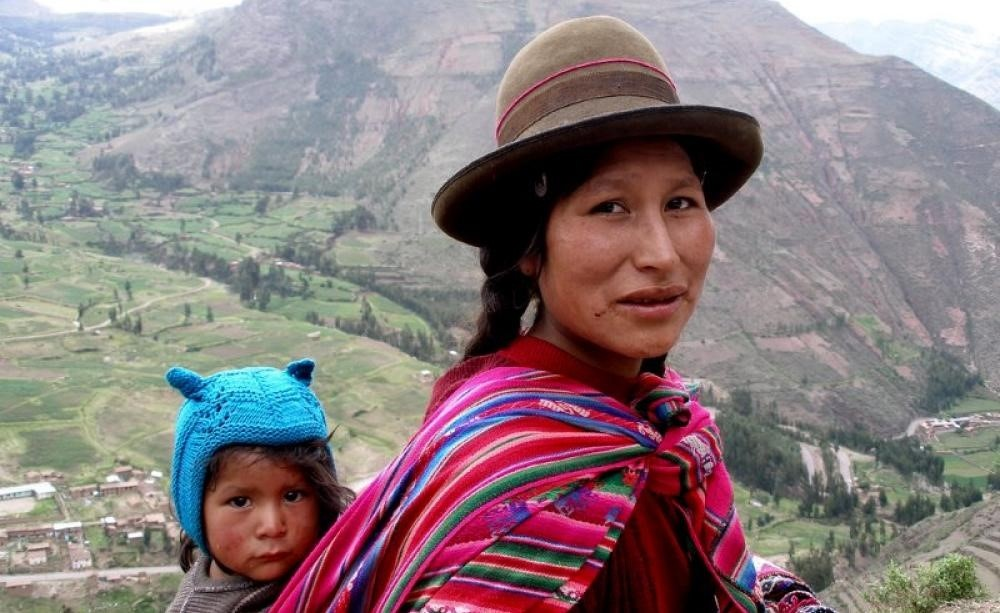face_no_mask: (512, 104, 722, 370), (182, 418, 333, 587)
